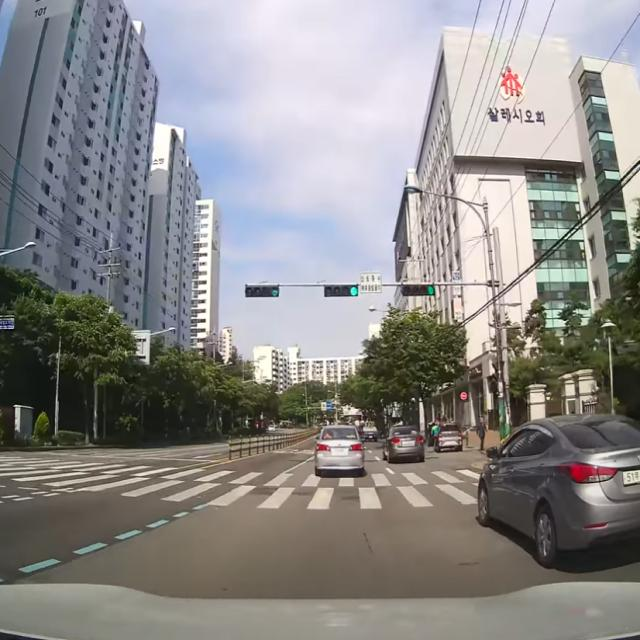Green Light: (426, 284, 435, 296), (349, 285, 358, 296), (270, 286, 278, 297)
